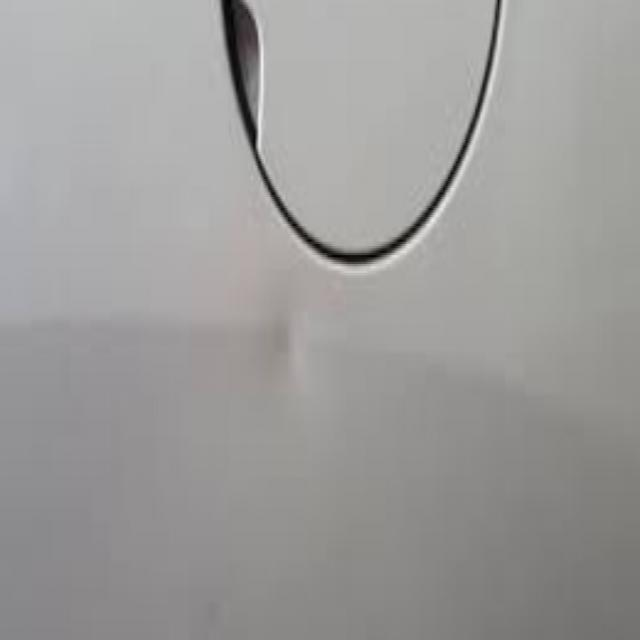dents: (252, 251, 326, 436)
